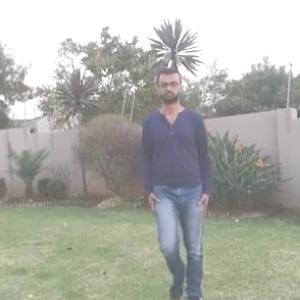follow: (150, 63, 206, 299), (149, 80, 210, 288)
